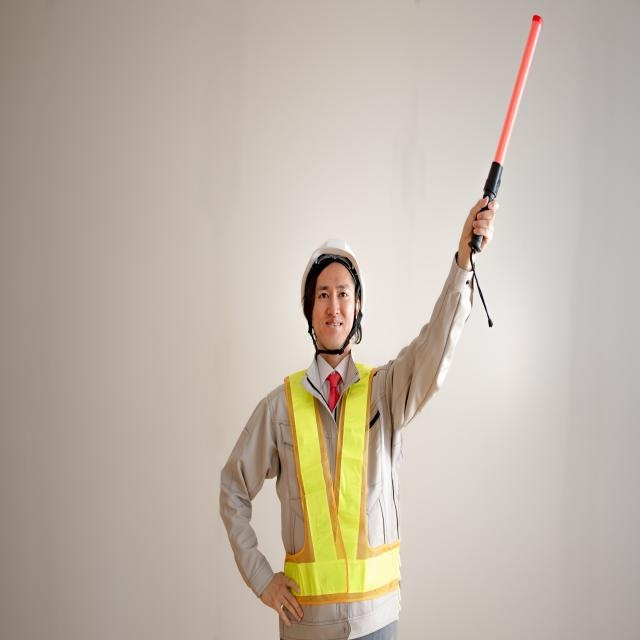Con_Casco: (299, 239, 368, 353)
Con_Chaleco: (281, 357, 399, 605)
